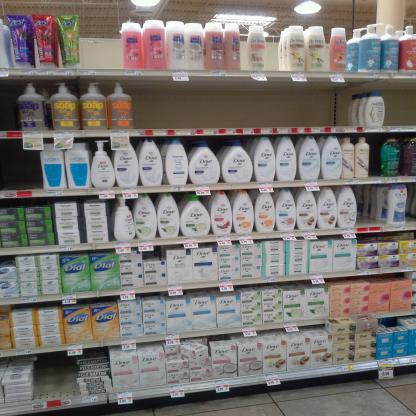Void: (133, 82, 344, 124), (84, 17, 125, 67), (0, 145, 41, 188), (34, 356, 73, 398), (387, 84, 415, 123), (358, 188, 381, 223), (0, 83, 17, 128), (383, 317, 402, 327), (146, 251, 162, 262)
